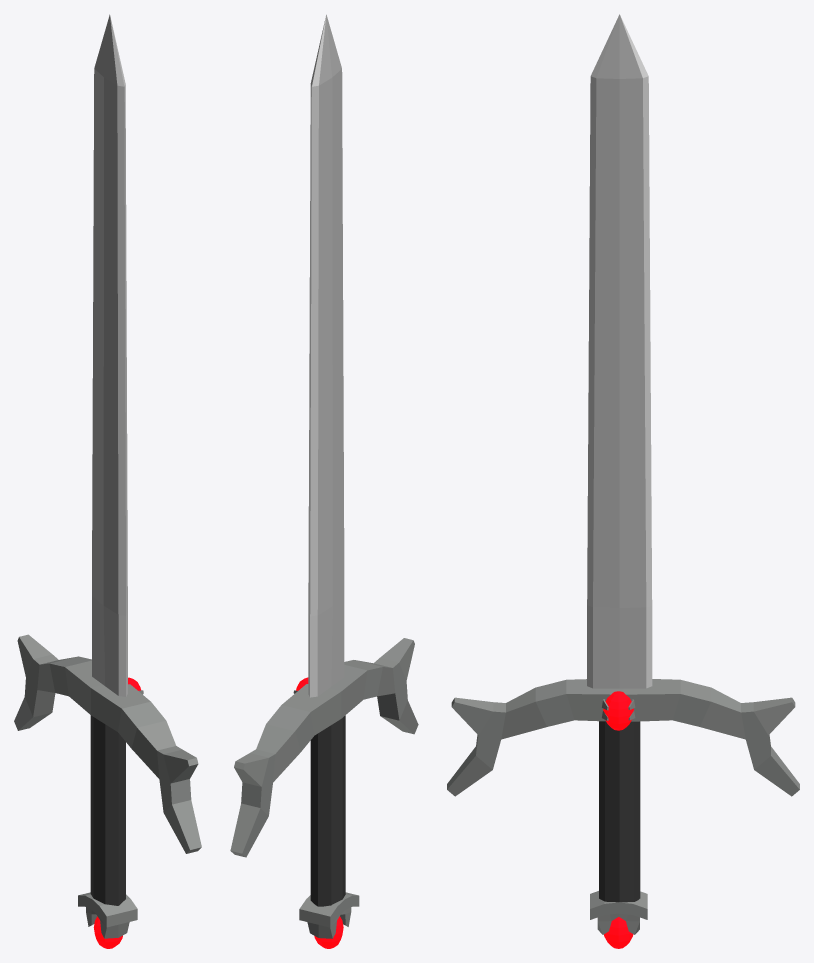
File: Sword2.glb
3 renders of one model, left to right at view 1: azimuth 30°, elevation 25°; view 2: azimuth 150°, elevation 25°; view 3: azimuth 270°, elevation 25°, orthographic.
Visible parts, largest first — view 1: Sword2; view 2: Sword2; view 3: Sword2.
Part boxes in pixels (x1=…): Sword2: x1=14, y1=14, x2=201, y2=948; Sword2: x1=230, y1=14, x2=418, y2=948; Sword2: x1=447, y1=14, x2=799, y2=948.
Size of the model in its own units: 0.0205 by 0.3735 by 0.1278.
